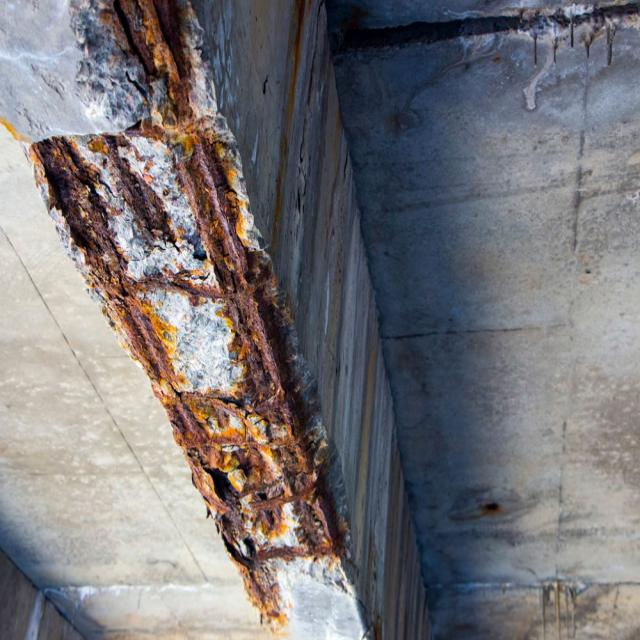Rebar: (27, 0, 351, 622)
